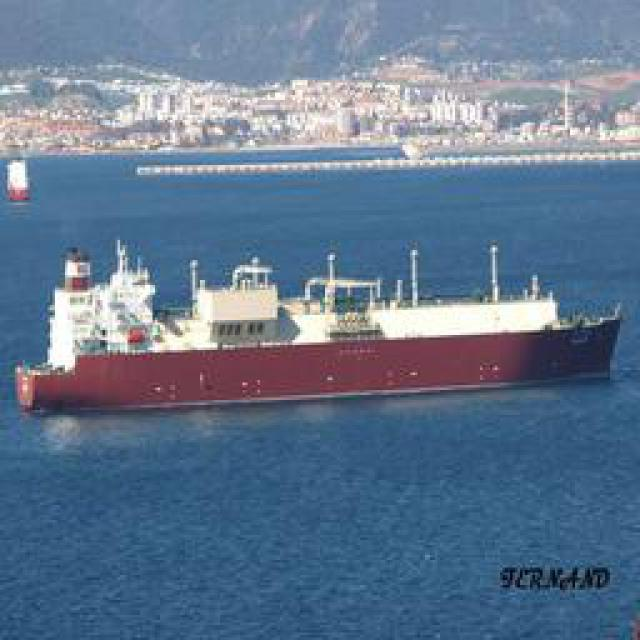Ship: (27, 238, 627, 416)
